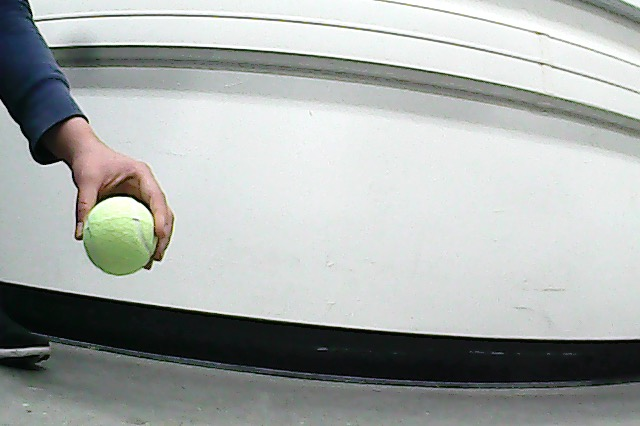ball: (83, 197, 159, 276)
